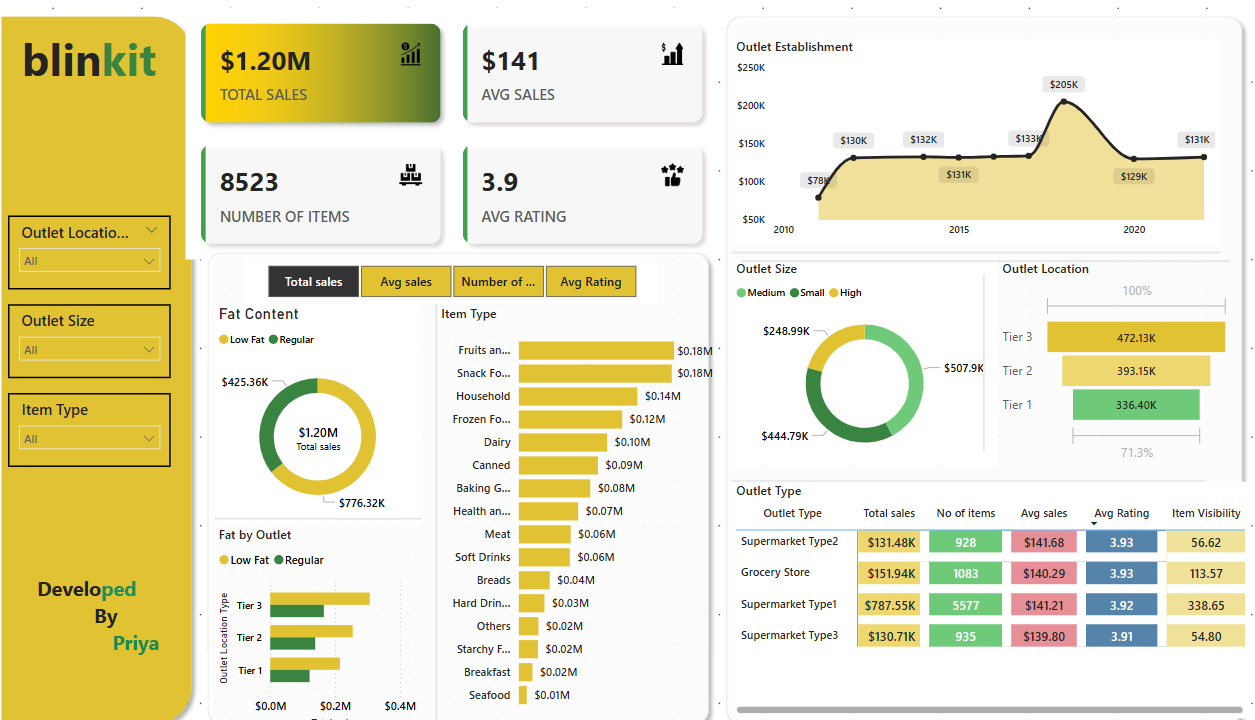

The page's visual inventory and layout, read from the dashboard file:
{"tool":"powerbi","page":{"name":"Page 1","canvas":[1400,800],"ordinal":0},"visuals":[{"type":"shape","box":[32,16,224,784],"z":0},{"type":"textbox","box":[32,32,208,112],"z":1000},{"type":"cardVisual","fields":{"Data":["BlinkIT Grocery Data.Total sales","BlinkIT Grocery Data.Avg sales","BlinkIT Grocery Data.Number of items","BlinkIT Grocery Data.Avg Rating"]},"box":[240,16,576,272],"z":2000},{"type":"shape","box":[256,272,560,528],"z":2001},{"type":"donutChart","title":"Fat Content","fields":{"Category":["BlinkIT Grocery Data.Item Fat Content"],"Y":["BlinkIT Grocery Data.Total sales"]},"box":[272,336,224,240],"z":2002},{"type":"slicer","fields":{"Values":["METRIX.METRIX"]},"box":[304,288,448,48],"z":2003},{"type":"cardVisual","fields":{"Data":["BlinkIT Grocery Data.Total sales"]},"box":[320,432,128,96],"z":2004},{"type":"clusteredBarChart","title":"Fat by Outlet ","fields":{"Y":["BlinkIT Grocery Data.Total sales"],"Category":["BlinkIT Grocery Data.Outlet Location Type"],"Series":["BlinkIT Grocery Data.Item Fat Content"]},"box":[272,576,224,224],"z":2005},{"type":"shape","box":[272,528,224,80],"z":2006},{"type":"shape","box":[384,336,256,464],"z":2007},{"type":"barChart","title":"Item Type","fields":{"Category":["BlinkIT Grocery Data.Item Type"],"Y":["BlinkIT Grocery Data.Total sales"]},"box":[512,336,304,448],"z":2008},{"type":"shape","box":[816,16,576,784],"z":2009},{"type":"lineChart","title":"Outlet Establishment","fields":{"Category":["BlinkIT Grocery Data.Outlet Establishment Year"],"Y":["BlinkIT Grocery Data.Total sales"]},"box":[832,48,528,224],"z":2010},{"type":"shape","box":[832,240,528,80],"z":2012},{"type":"donutChart","title":"Outlet Size","fields":{"Y":["BlinkIT Grocery Data.Total sales"],"Category":["BlinkIT Grocery Data.Outlet Size"]},"box":[832,288,288,224],"z":2013},{"type":"shape","box":[1072,304,64,192],"z":2014},{"type":"funnel","title":"Outlet Location","fields":{"Y":["Sum(BlinkIT Grocery Data.Sales)"],"Category":["BlinkIT Grocery Data.Outlet Location Type"]},"box":[1120,288,256,224],"z":2015},{"type":"shape","box":[832,480,512,96],"z":2016},{"type":"pivotTable","title":"Outlet Type","fields":{"Rows":["BlinkIT Grocery Data.Outlet Type"],"Values":["BlinkIT Grocery Data.Total sales","BlinkIT Grocery Data.Number of items","BlinkIT Grocery Data.Avg sales","BlinkIT Grocery Data.Avg Rating","Sum(BlinkIT Grocery Data.Item Visibility)"]},"box":[832,528,560,256],"z":2017},{"type":"slicer","fields":{"Values":["BlinkIT Grocery Data.Outlet Location Type"]},"box":[48,240,176,80],"z":2018},{"type":"shape","box":[842,250,528,80],"z":2019},{"type":"slicer","fields":{"Values":["BlinkIT Grocery Data.Outlet Size"]},"box":[48,336,176,80],"z":2020},{"type":"slicer","fields":{"Values":["BlinkIT Grocery Data.Item Type"]},"box":[48,432,176,80],"z":2021},{"type":"actionButton","box":[0,0,100,40],"z":2022},{"type":"textbox","box":[48,624,176,112],"z":2023}]}

Visuals, with their boxes in screenshot pixels (x1, y1, x2, y2), scaled from the page's 1400x800 canvas onto the 1255x720 screenshot:
shape: rect(29, 14, 229, 719)
textbox: rect(29, 29, 215, 130)
cardVisual - BlinkIT Grocery Data.Total sales x BlinkIT Grocery Data.Avg sales: rect(215, 14, 731, 259)
shape: rect(229, 245, 731, 719)
"Fat Content" donutChart: rect(244, 302, 445, 518)
slicer - METRIX.METRIX: rect(273, 259, 674, 302)
cardVisual - BlinkIT Grocery Data.Total sales: rect(287, 389, 402, 475)
"Fat by Outlet " clusteredBarChart: rect(244, 518, 445, 719)
shape: rect(244, 475, 445, 547)
shape: rect(344, 302, 574, 719)
"Item Type" barChart: rect(459, 302, 731, 706)
shape: rect(731, 14, 1248, 719)
"Outlet Establishment" lineChart: rect(746, 43, 1219, 245)
shape: rect(746, 216, 1219, 288)
"Outlet Size" donutChart: rect(746, 259, 1004, 461)
shape: rect(961, 274, 1018, 446)
"Outlet Location" funnel: rect(1004, 259, 1233, 461)
shape: rect(746, 432, 1205, 518)
"Outlet Type" pivotTable: rect(746, 475, 1248, 706)
slicer - BlinkIT Grocery Data.Outlet Location Type: rect(43, 216, 201, 288)
shape: rect(755, 225, 1228, 297)
slicer - BlinkIT Grocery Data.Outlet Size: rect(43, 302, 201, 374)
slicer - BlinkIT Grocery Data.Item Type: rect(43, 389, 201, 461)
actionButton: rect(0, 0, 90, 36)
textbox: rect(43, 562, 201, 662)
